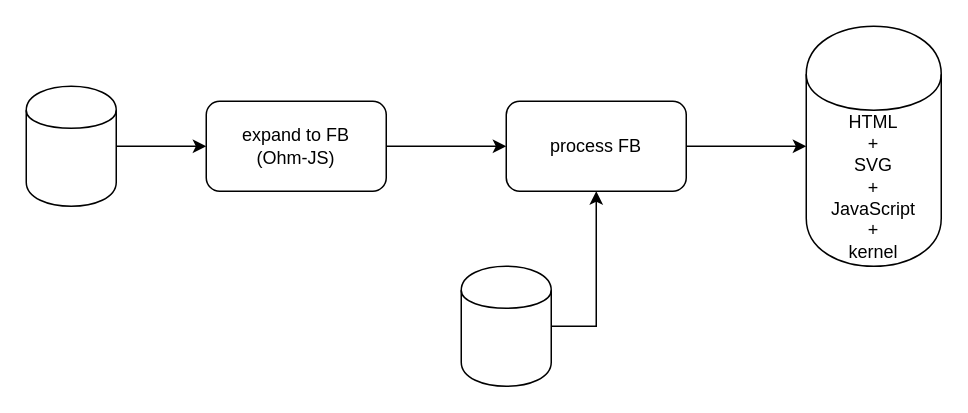
Some shapes in this 968 by 413 pixel diagram are drawn without their labels. The centre of each missing label's shape, as x and y in pixels:
"HTML + SVG" belongs at pixel 70 145.
"Pattern Matching Rules" belongs at pixel 505 325.
